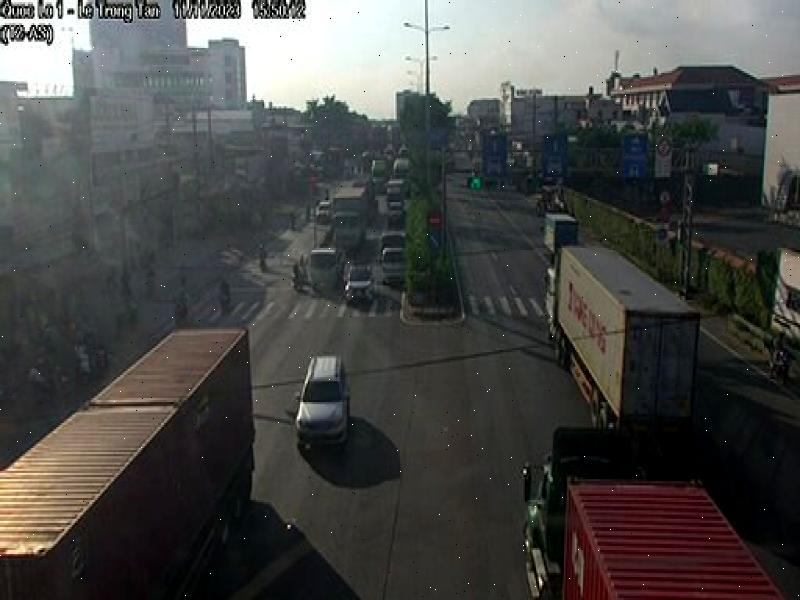truck: (0, 323, 255, 600), (522, 426, 789, 600), (540, 236, 701, 439), (329, 182, 369, 256)
